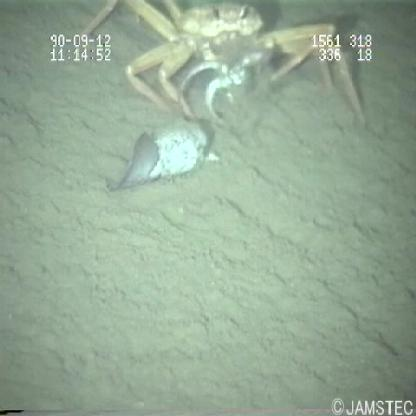Bio: (74, 1, 371, 200)
